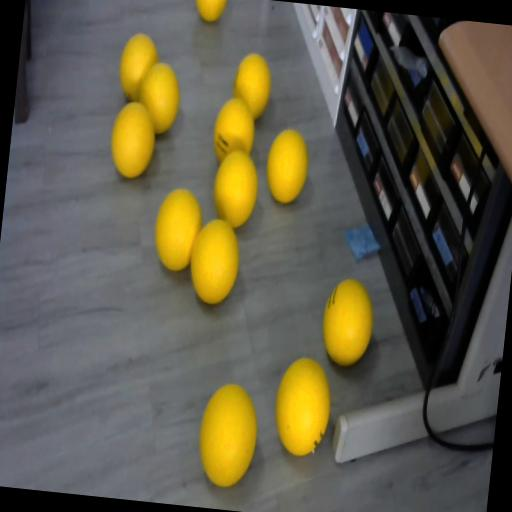FUEL: (193, 379, 262, 489), (269, 354, 336, 458), (318, 274, 378, 368), (186, 216, 244, 306), (150, 185, 206, 274), (210, 148, 262, 230), (108, 100, 160, 180), (262, 127, 312, 205), (116, 30, 162, 104), (231, 50, 275, 120), (191, 0, 227, 24)
